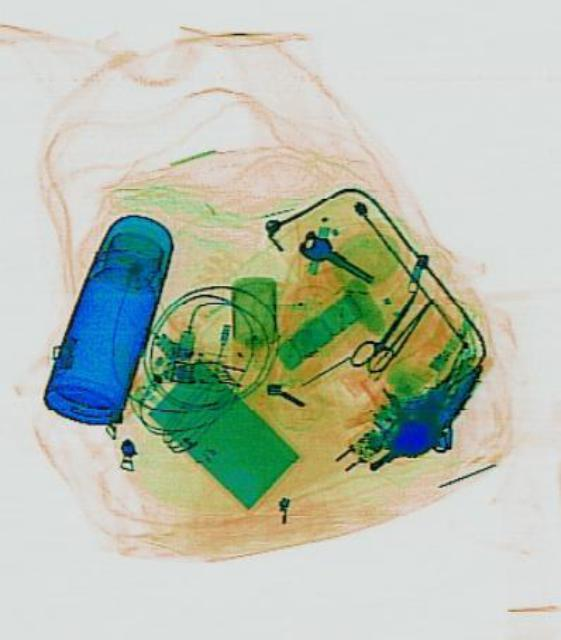Scissors: (342, 282, 424, 381)
